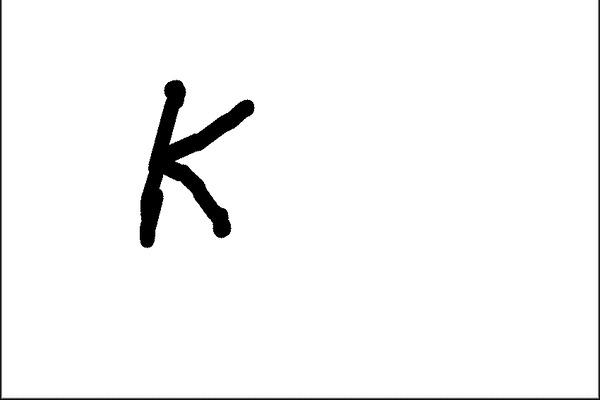K: (134, 75, 261, 254)
